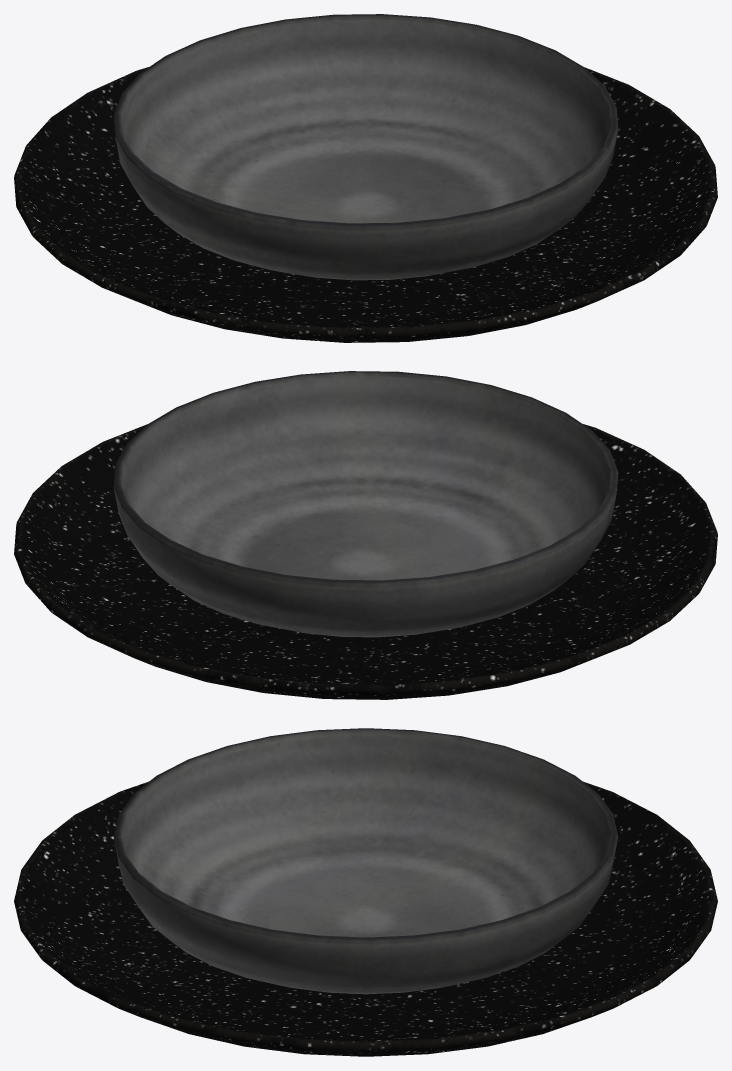
The model's file is plate.fbx.
3 renders of one model, top to bottom at view 1: azimuth 30°, elevation 25°; view 2: azimuth 150°, elevation 25°; view 3: azimuth 270°, elevation 25°, orthographic.
Parts seen in each view (by area): view 1: PLATES; view 2: PLATES; view 3: PLATES.
Part boxes in pixels (<box>): PLATES: <box>14,14,717,342</box>; PLATES: <box>14,371,717,699</box>; PLATES: <box>14,728,717,1056</box>.
Bounding box in the file's own units: 33.67 × 6.32 × 33.67.
